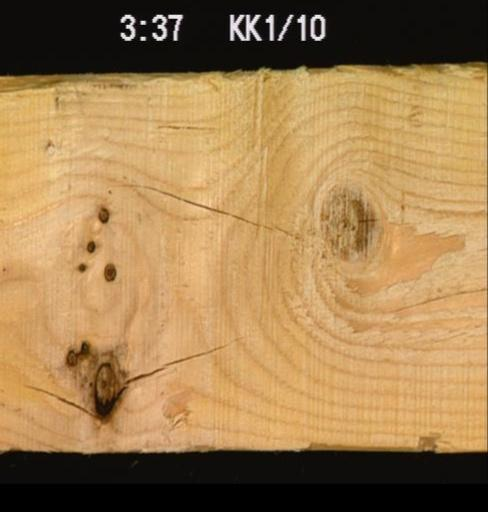dry_knot: (101, 261, 116, 281), (96, 205, 109, 222)
small_knot: (84, 238, 95, 252), (75, 260, 86, 272)
sound_knot: (317, 187, 374, 261)
split: (114, 180, 301, 239), (121, 331, 251, 390), (380, 276, 486, 316), (16, 378, 101, 424), (151, 120, 234, 132)
wave: (0, 72, 180, 101), (300, 423, 447, 449), (165, 432, 252, 450)
